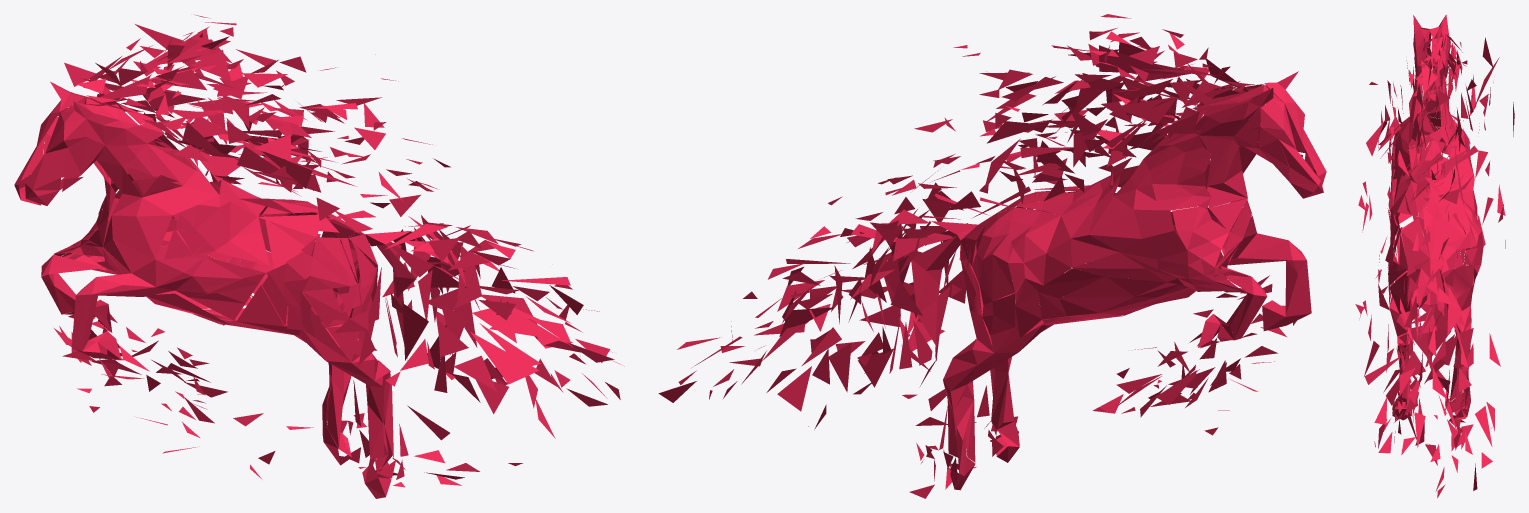
Rendered from horse.gltfpack.glb.
3 views of the same model, side by side, from view 1: azimuth 30°, elevation 25°; view 2: azimuth 150°, elevation 25°; view 3: azimuth 270°, elevation 25° (orthographic). The views are drawn at different scales.
Visible parts, largest first — view 1: m164, m130, m049, m286, m1149, m081, m228; view 2: m1149, m634, m613, m147, m644; view 3: m286, m1169, m228, m173, m043, m014, m1160, m1176, m194, m1232, m156, m976 (+12 smaller).
Boxes of the visible parts, x1,y1,x2,y2 form: m164: [470, 332, 539, 384]; m130: [489, 311, 562, 340]; m049: [137, 215, 172, 259]; m286: [258, 214, 322, 236]; m1149: [143, 28, 211, 65]; m081: [112, 217, 155, 259]; m228: [402, 303, 428, 360]; m1149: [1099, 45, 1176, 74]; m634: [1060, 277, 1134, 298]; m613: [1089, 210, 1141, 238]; m147: [1121, 97, 1175, 123]; m644: [1070, 239, 1118, 267]; m286: [1397, 181, 1418, 216]; m1169: [1447, 286, 1462, 335]; m228: [1406, 325, 1431, 361]; m173: [1398, 351, 1425, 380]; m043: [1475, 406, 1492, 446]; m014: [1411, 181, 1429, 216]; m1160: [1421, 60, 1437, 93]; m1176: [1459, 328, 1473, 359]; m194: [1411, 160, 1430, 189]; m1232: [1440, 148, 1468, 178]; m156: [1401, 232, 1415, 267]; m976: [1401, 217, 1418, 243].
Bounding box in the file's own units: 3.09 × 2.42 × 1.02.
